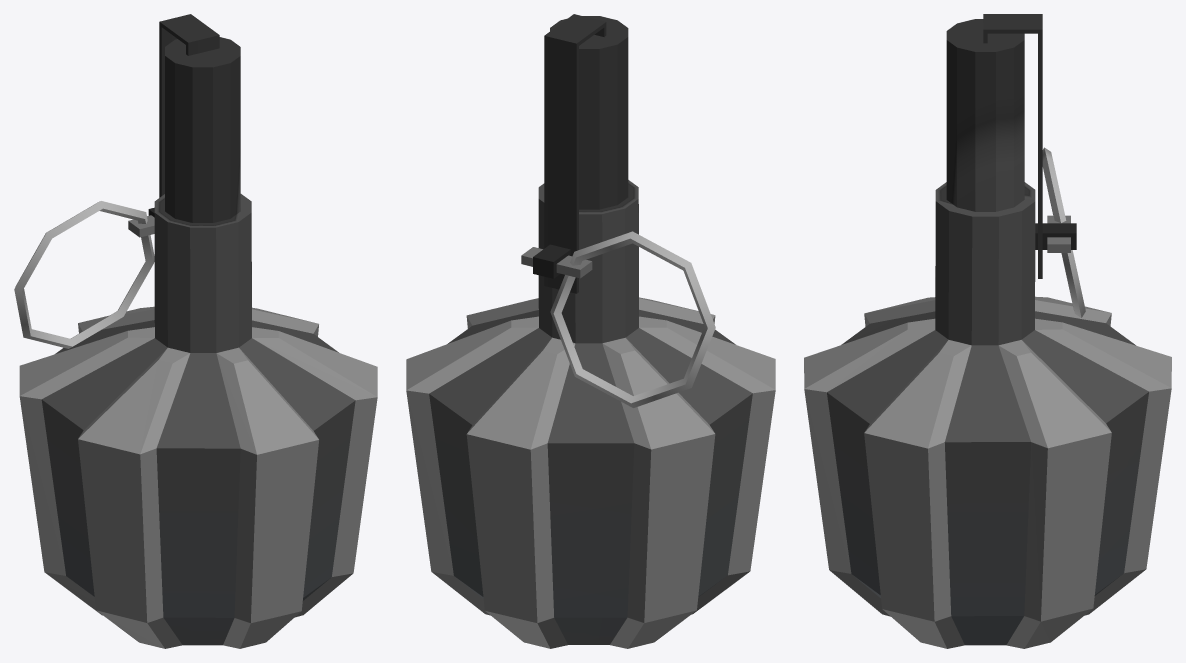
File: Anti-Tank3.FBX
The picture shows the model from 3 angles, left to right: view 1: azimuth 30°, elevation 25°; view 2: azimuth 150°, elevation 25°; view 3: azimuth 270°, elevation 25°; orthographic projection. The views are drawn at different scales.
Visible parts, largest first — view 1: Cylinder016, Object014, Object013; view 2: Cylinder016, Object013, Object014, Box004; view 3: Cylinder016, Object013, Object014.
Part boxes in pixels (bbox=[...]): Cylinder016: bbox=[19, 37, 377, 648]; Object014: bbox=[14, 201, 154, 348]; Object013: bbox=[159, 14, 219, 197]; Cylinder016: bbox=[406, 16, 775, 648]; Object013: bbox=[544, 14, 606, 293]; Object014: bbox=[550, 231, 715, 407]; Box004: bbox=[521, 247, 592, 278]; Cylinder016: bbox=[804, 19, 1171, 648]; Object013: bbox=[983, 14, 1042, 278]; Object014: bbox=[1042, 147, 1085, 317].
Bounding box in the file's own units: 0.177 × 0.3217 × 0.1815.
